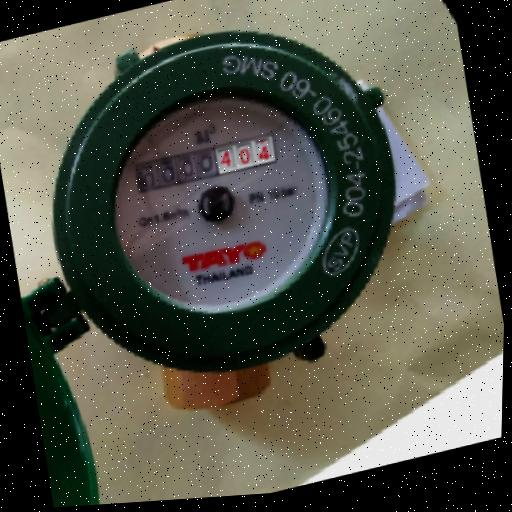0: (138, 162, 157, 190), (176, 154, 195, 180), (157, 159, 175, 185), (196, 150, 213, 176), (234, 143, 252, 166)
4: (254, 138, 271, 163), (217, 148, 234, 171)
border_water_meter_number: (134, 130, 277, 196)
